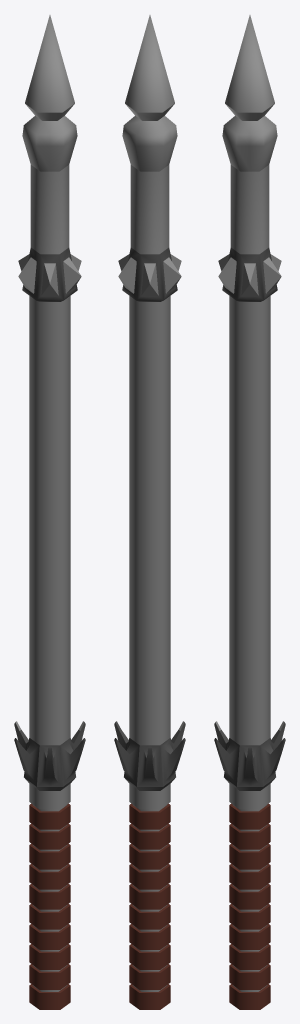
Rendered from Metal_Battle_Axe_Handle.glb.
3 views of the same model, side by side, from view 1: azimuth 90°, elevation 25°; view 2: azimuth 150°, elevation 25°; view 3: azimuth 270°, elevation 25° (orthographic).
Parts seen in each view (by area): view 1: Metal_Battle_Axe_Handle; view 2: Metal_Battle_Axe_Handle; view 3: Metal_Battle_Axe_Handle.
Part boxes in pixels (bbox=[...]): Metal_Battle_Axe_Handle: bbox=[14, 15, 85, 1009]; Metal_Battle_Axe_Handle: bbox=[114, 15, 185, 1009]; Metal_Battle_Axe_Handle: bbox=[214, 15, 285, 1009].
Bounding box in the file's own units: 0.0776 × 1.05 × 0.0692.
